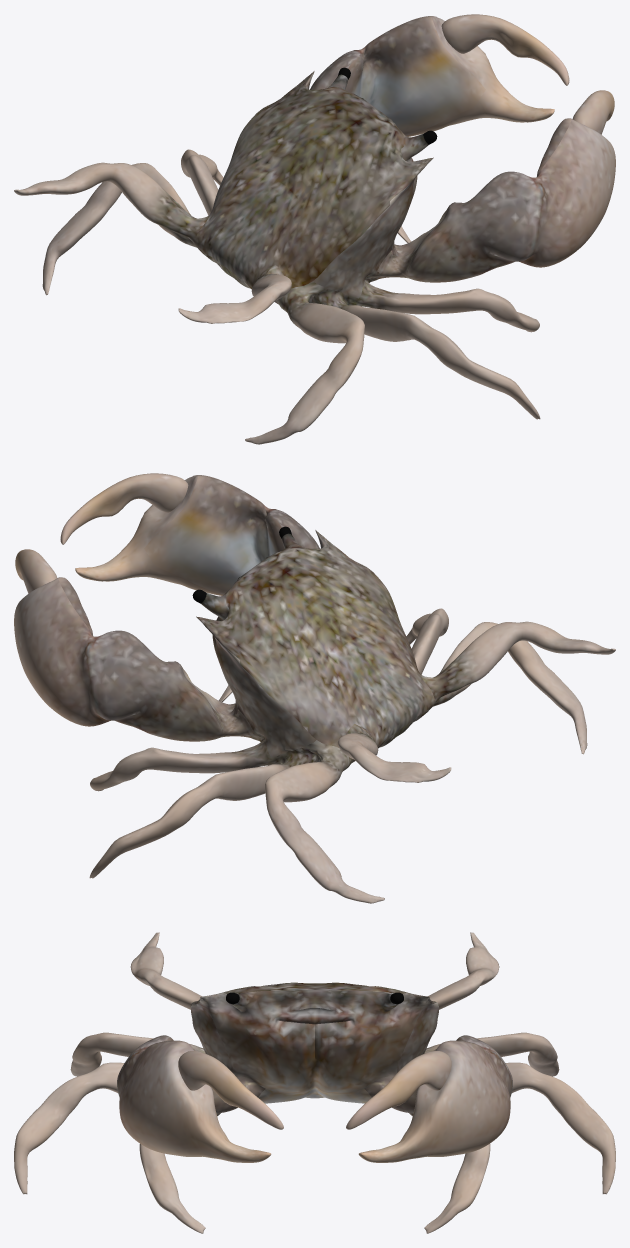
File: fish-cua-bien.glb
3 renders of one model, top to bottom at view 1: azimuth 30°, elevation 25°; view 2: azimuth 150°, elevation 25°; view 3: azimuth 270°, elevation 25°, orthographic. The views are drawn at different scales.
Parts seen in each view (by area): view 1: body; view 2: body; view 3: body.
Boxes of the visible parts, x1,y1,x2,y2 form: body: [14, 14, 615, 444]; body: [14, 473, 615, 903]; body: [14, 932, 615, 1233].
Size of the model in its own units: 0.9077 by 0.3822 by 1.
